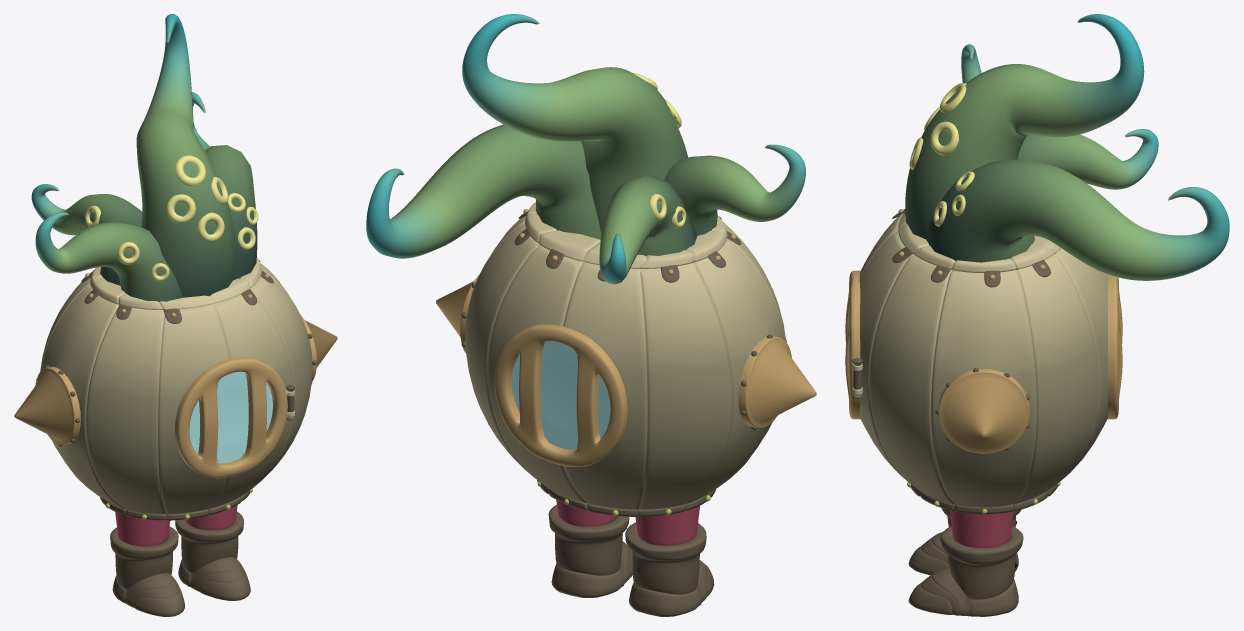
The model's file is Boss_enemy.fbx.
The picture shows the model from 3 angles, left to right: view 1: azimuth 30°, elevation 25°; view 2: azimuth 150°, elevation 25°; view 3: azimuth 270°, elevation 25°; orthographic projection. The views are drawn at different scales.
Visible parts, largest first — view 1: Sphere.004, NurbsCurve.002, Cylinder.011, Sphere.005, NurbsCurve.001, Cone, Sphere.006, NurbsCurve, NurbsCurve.003, Cylinder, Sphere.008, Torus.003 (+2 smaller); view 2: Sphere.004, NurbsCurve.002, NurbsCurve, Cylinder.011, Sphere.005, NurbsCurve.001, NurbsCurve.003, Cone, Sphere.006, Cylinder, Sphere.008; view 3: Sphere.004, NurbsCurve, NurbsCurve.002, Cylinder.011, Cone, NurbsCurve.003, Sphere.005, Cylinder, Sphere.008, Torus, NurbsCurve.001.
Part boxes in pixels (bbox=[...]): Sphere.004: bbox=[40, 258, 312, 520]; NurbsCurve.002: bbox=[136, 14, 236, 297]; Cylinder.011: bbox=[110, 512, 250, 616]; Sphere.005: bbox=[175, 357, 287, 478]; NurbsCurve.001: bbox=[35, 212, 182, 301]; Cone: bbox=[14, 315, 337, 445]; Sphere.006: bbox=[189, 371, 272, 463]; NurbsCurve: bbox=[192, 92, 257, 280]; NurbsCurve.003: bbox=[31, 184, 142, 285]; Cylinder: bbox=[115, 505, 237, 546]; Sphere.008: bbox=[81, 260, 273, 323]; Torus.003: bbox=[174, 155, 205, 185]; Sphere.004: bbox=[465, 202, 785, 516]; NurbsCurve.002: bbox=[462, 14, 687, 233]; NurbsCurve: bbox=[366, 124, 601, 258]; Cylinder.011: bbox=[548, 505, 714, 616]; Sphere.005: bbox=[494, 324, 627, 466]; NurbsCurve.001: bbox=[664, 144, 805, 235]; NurbsCurve.003: bbox=[599, 175, 697, 284]; Cone: bbox=[436, 275, 816, 428]; Sphere.006: bbox=[512, 341, 610, 449]; Cylinder: bbox=[556, 500, 699, 545]; Sphere.008: bbox=[514, 211, 741, 282]; Sphere.004: bbox=[859, 212, 1108, 514]; NurbsCurve: bbox=[926, 159, 1229, 280]; NurbsCurve.002: bbox=[905, 14, 1144, 239]; Cylinder.011: bbox=[908, 508, 1023, 616]; Cone: bbox=[938, 369, 1029, 454]; NurbsCurve.003: bbox=[1017, 129, 1158, 189]; Sphere.005: bbox=[845, 270, 1122, 419]; Cylinder: bbox=[949, 510, 1013, 547]; Sphere.008: bbox=[892, 209, 1050, 287]; Torus: bbox=[930, 121, 958, 155]; NurbsCurve.001: bbox=[961, 44, 981, 82].
Bounding box in the file's own units: 260 × 399 × 233.
Materials: 1 (1 with a texture image).
